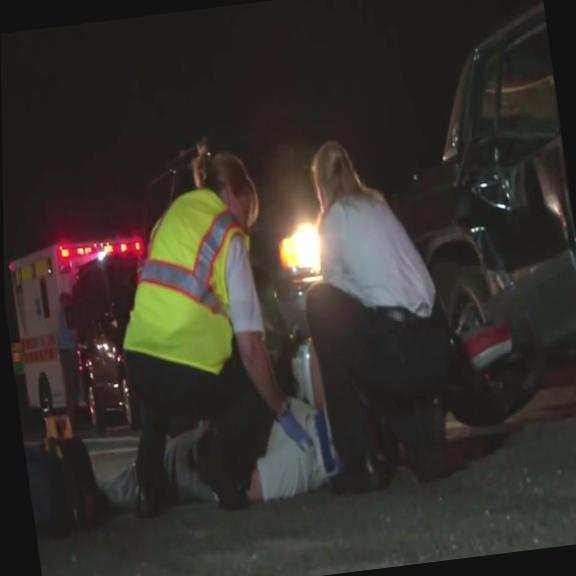safety_vest: (95, 180, 268, 388)
